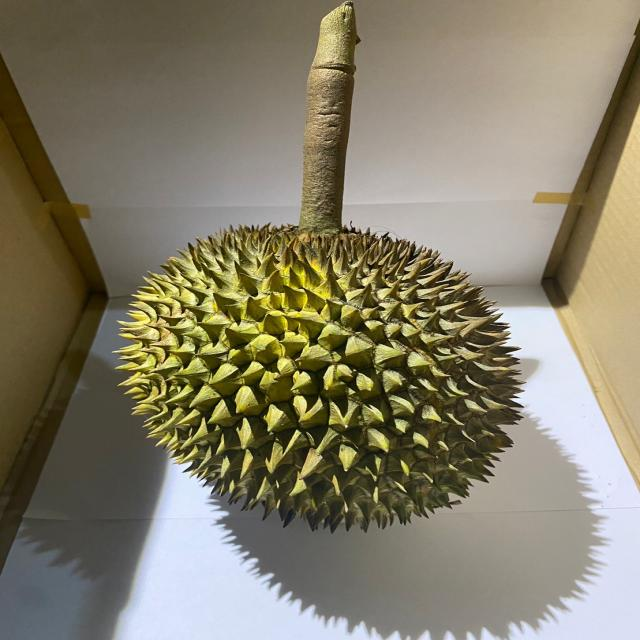immature: (114, 221, 530, 536)
